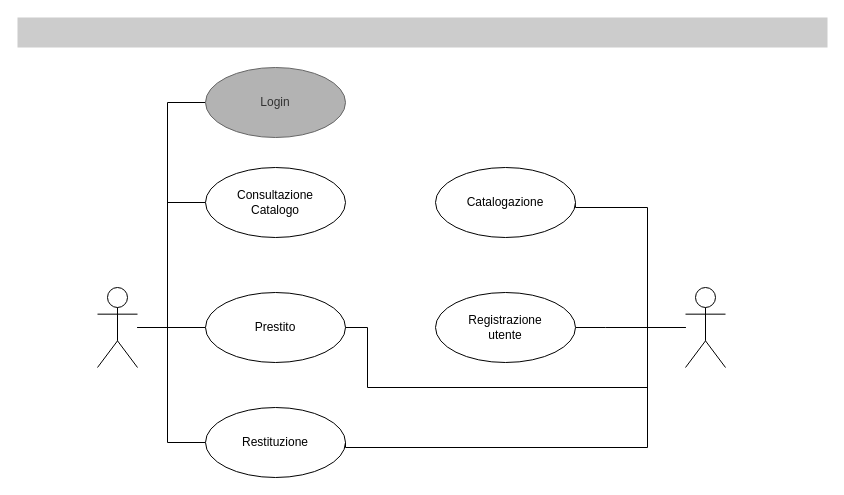
This 844x495 diagram has some shape labels left out. Here are the shapes that lost their labels. From the top down, the box of each, then its label:
(17, 17, 827, 47): Dominio Applicazione
(96, 286, 138, 368): Utente Privato
(684, 286, 726, 368): Bibliotecario
